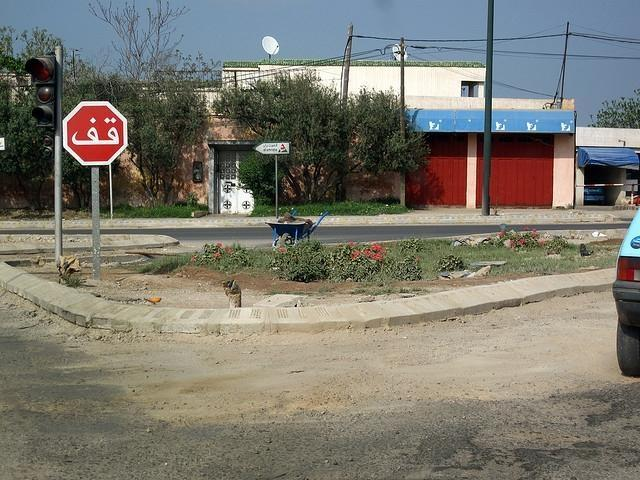car: (611, 206, 640, 380), (584, 186, 606, 204)
